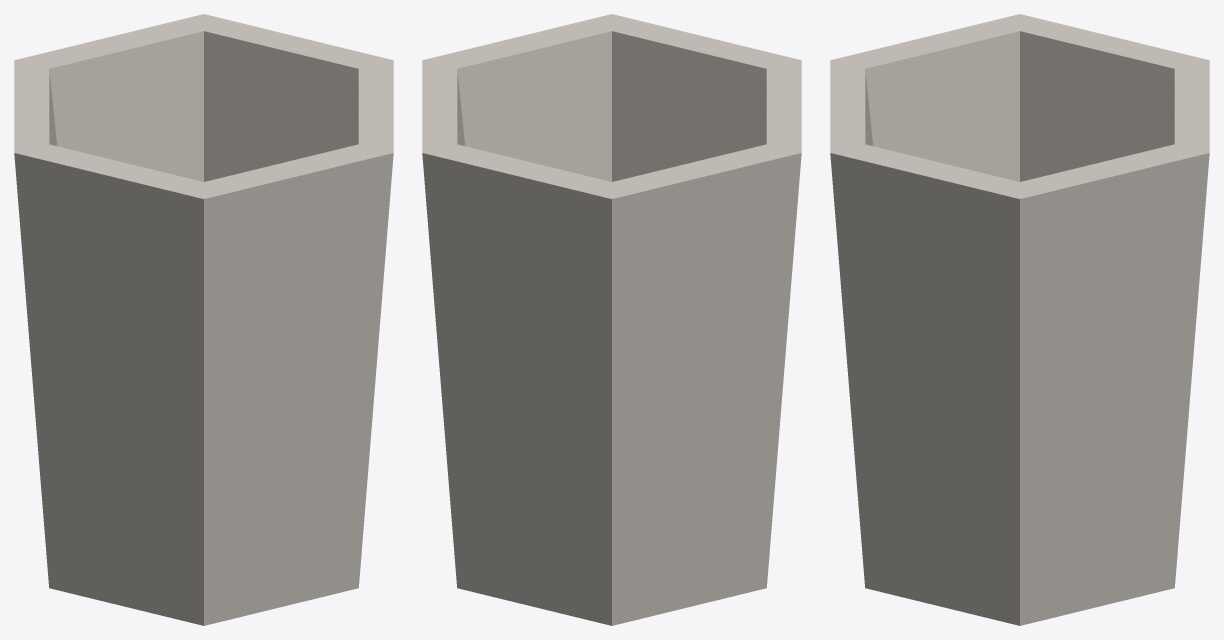
Rendered from SM_Item_Cup_01.fbx.
3 renders of one model, left to right at view 1: azimuth 30°, elevation 25°; view 2: azimuth 150°, elevation 25°; view 3: azimuth 270°, elevation 25°, orthographic.
Visible parts, largest first — view 1: SM_Item_Cup_01; view 2: SM_Item_Cup_01; view 3: SM_Item_Cup_01.
Part boxes in pixels (bbox=[...]): SM_Item_Cup_01: bbox=[14, 14, 393, 625]; SM_Item_Cup_01: bbox=[422, 14, 801, 625]; SM_Item_Cup_01: bbox=[830, 14, 1209, 625].
Bounding box in the file's own units: 11 × 12.29 × 9.53.
